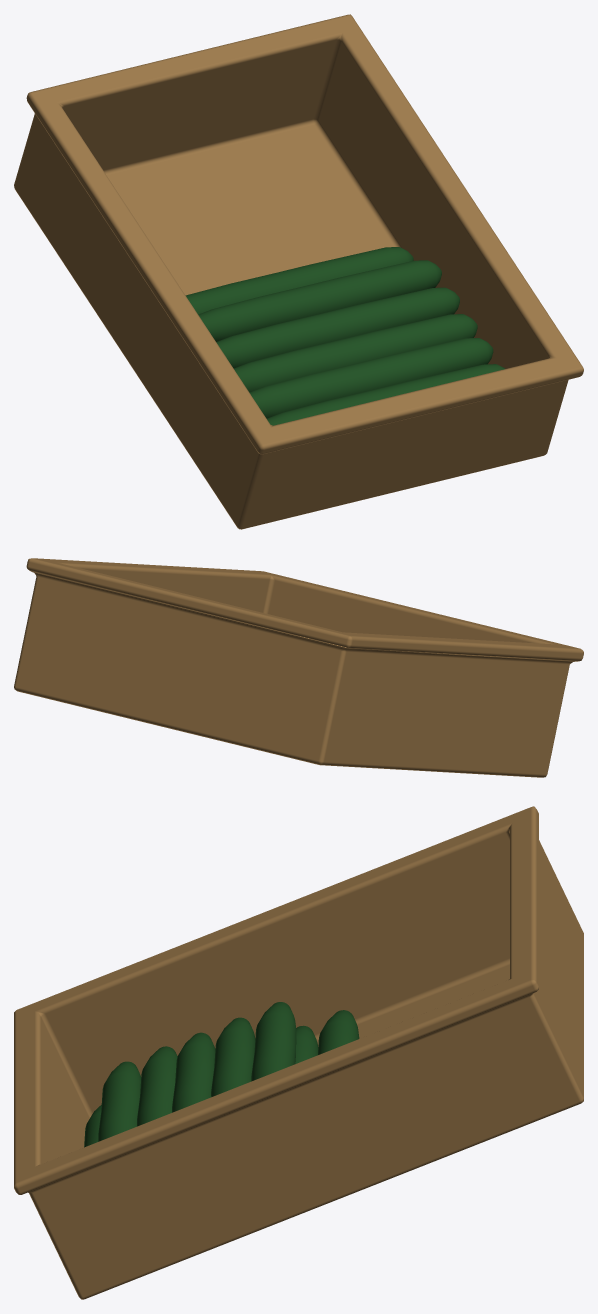
File: cucumber_basket.fbx
3 views of the same model, one above another, from view 1: azimuth 30°, elevation 25°; view 2: azimuth 150°, elevation 25°; view 3: azimuth 270°, elevation 25° (orthographic). The views are drawn at different scales.
Visible parts, largest first — view 1: cucumber_basket; view 2: cucumber_basket; view 3: cucumber_basket.
Boxes of the visible parts, <box> form: cucumber_basket: <box>14,14,583,529</box>; cucumber_basket: <box>14,558,583,777</box>; cucumber_basket: <box>14,806,583,1299</box>.
Size of the model in its own units: 33.01 by 28.2 by 45.02.
